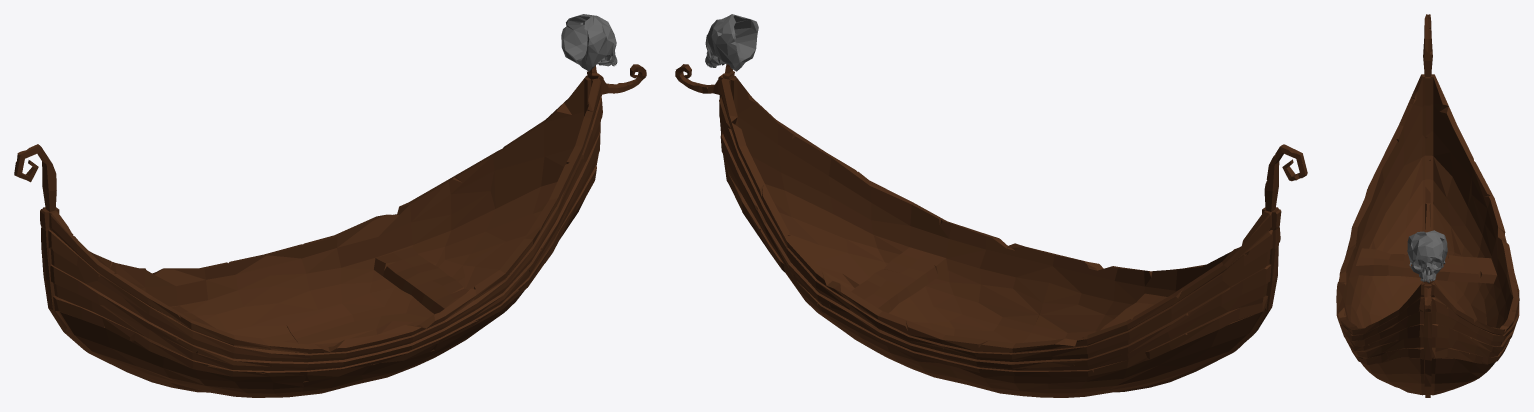
File: boat_caronte.fbx
The picture shows the model from 3 angles, left to right: view 1: azimuth 30°, elevation 25°; view 2: azimuth 150°, elevation 25°; view 3: azimuth 270°, elevation 25°; orthographic projection. The views are drawn at different scales.
Parts seen in each view (by area): view 1: boat_final; view 2: boat_final; view 3: boat_final.
Boxes of the visible parts, x1,y1,x2,y2 form: boat_final: (14, 14, 646, 397); boat_final: (675, 14, 1307, 397); boat_final: (1336, 14, 1519, 397).
Size of the model in its own units: 480 by 216 by 155.
